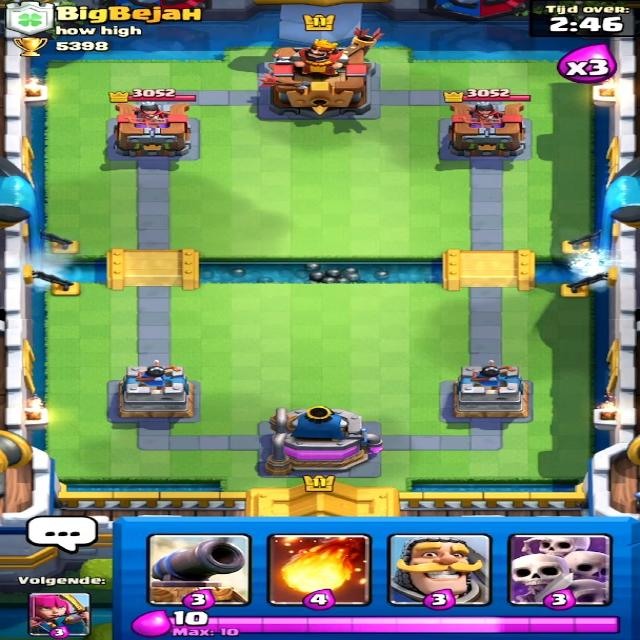Cannon_Card: (149, 533, 253, 606)
Fireball_Card: (272, 536, 368, 604)
